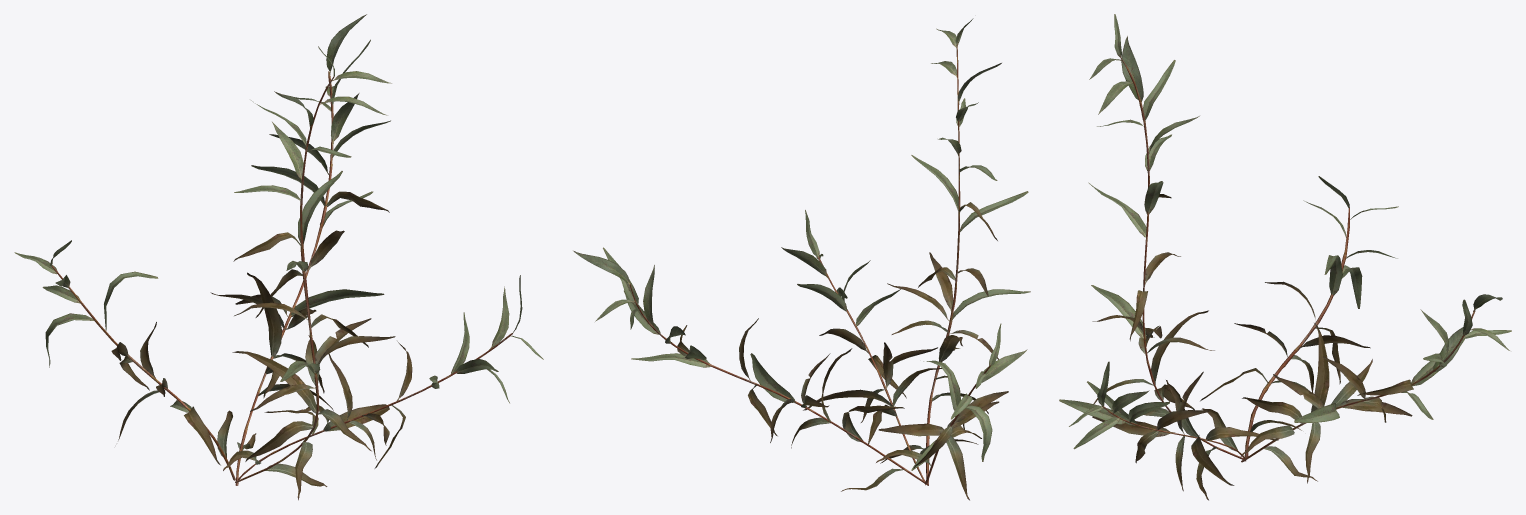
The model's file is shrub_d.glb.
The picture shows the model from 3 angles, left to right: view 1: azimuth 30°, elevation 25°; view 2: azimuth 150°, elevation 25°; view 3: azimuth 270°, elevation 25°; orthographic projection. The views are drawn at different scales.
Parts seen in each view (by area): view 1: shrub_02_d; view 2: shrub_02_d; view 3: shrub_02_d.
Part boxes in pixels (<box>): shrub_02_d: <box>14,14,543,500</box>; shrub_02_d: <box>573,18,1030,500</box>; shrub_02_d: <box>1059,14,1511,500</box>.
Size of the model in its own units: 1.08 by 1.23 by 1.1.
1 material, 1 textured.
